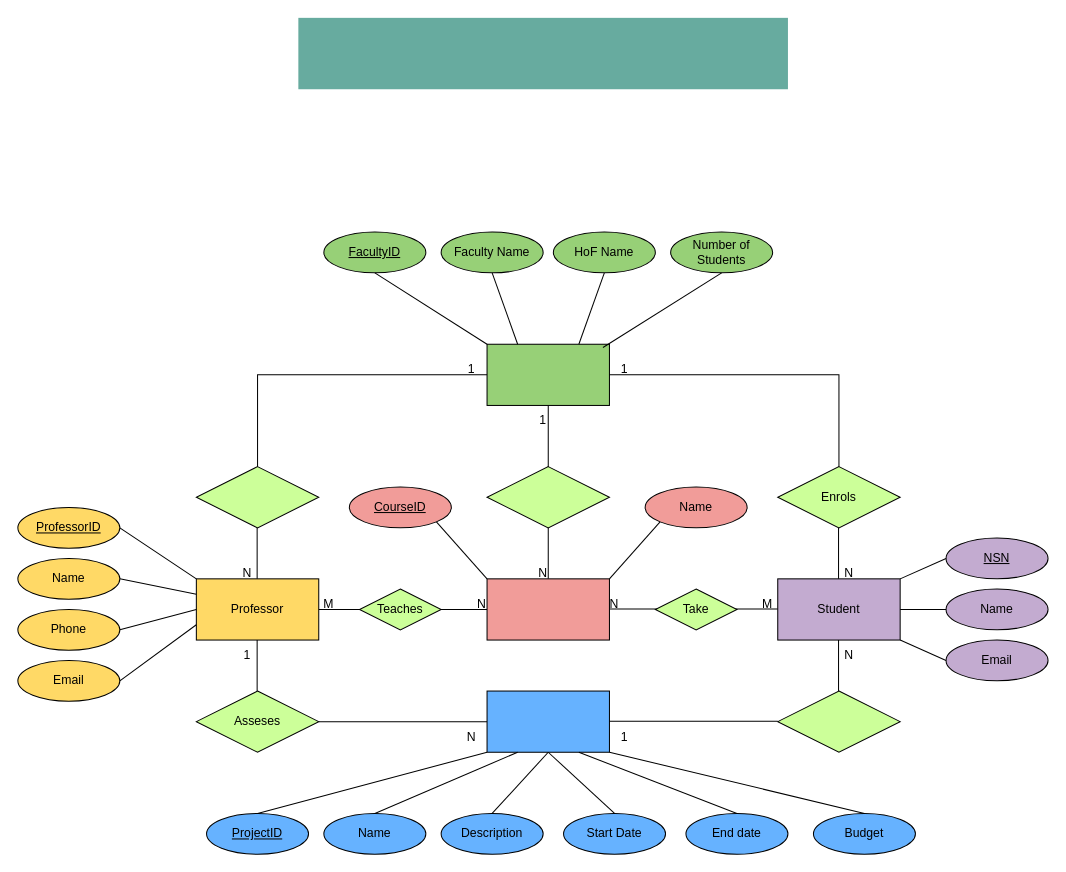
Some shapes in this 1066 by 872 pixel diagram are drawn without their labels. Each missing label, with the box of its shape:
Course: (486, 578, 609, 640)
Employs: (195, 466, 319, 528)
Faculty: (486, 343, 609, 405)
Offers: (486, 466, 609, 528)
Project: (486, 690, 609, 752)
Wawatahia University Database ERD: (298, 17, 787, 89)
Works on: (777, 690, 900, 752)
